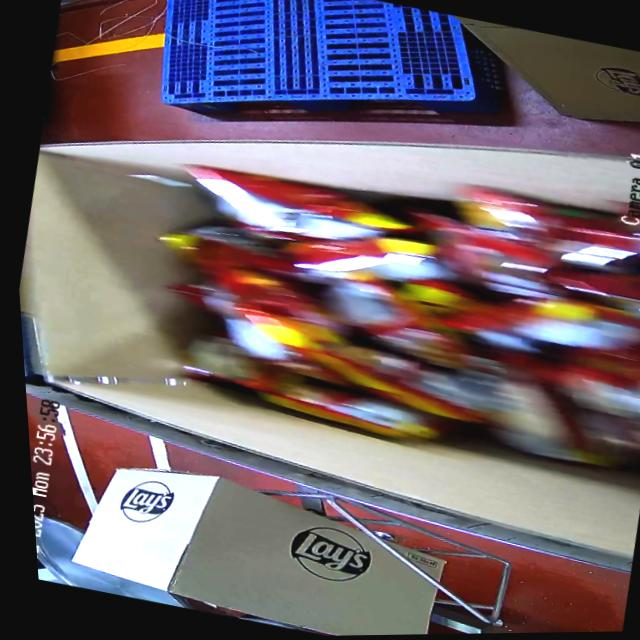MASALA: (143, 135, 640, 486)
